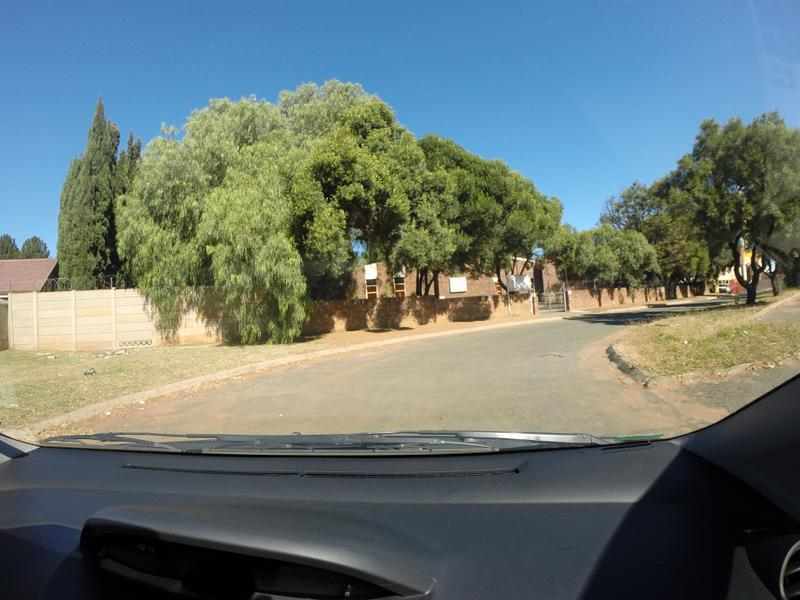pothole: (537, 353, 565, 360)
